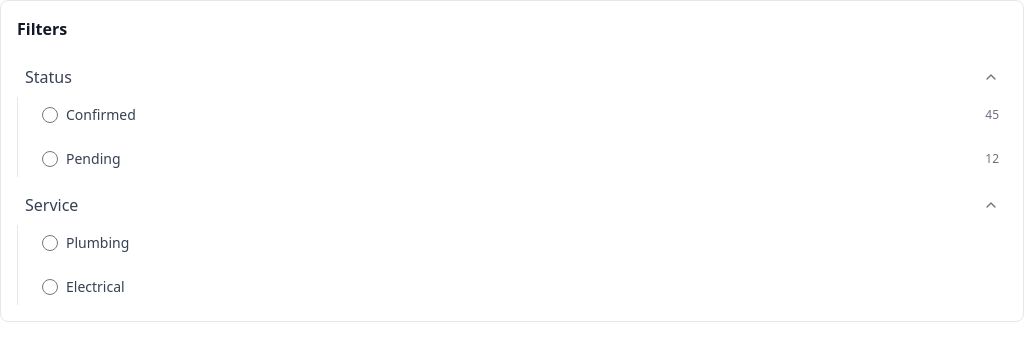
it: FilterPanel Component › should collapse/expand filter groups
What coordinates should you click on to do the following:
click the button "Status"
I would click on:
 (48, 77)
Its box is [17, 57, 1007, 97].
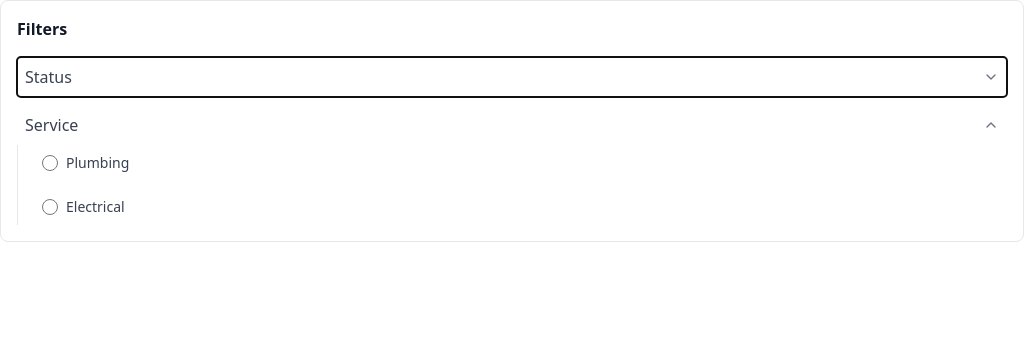
Result: the text showing "confirmed" is gone
